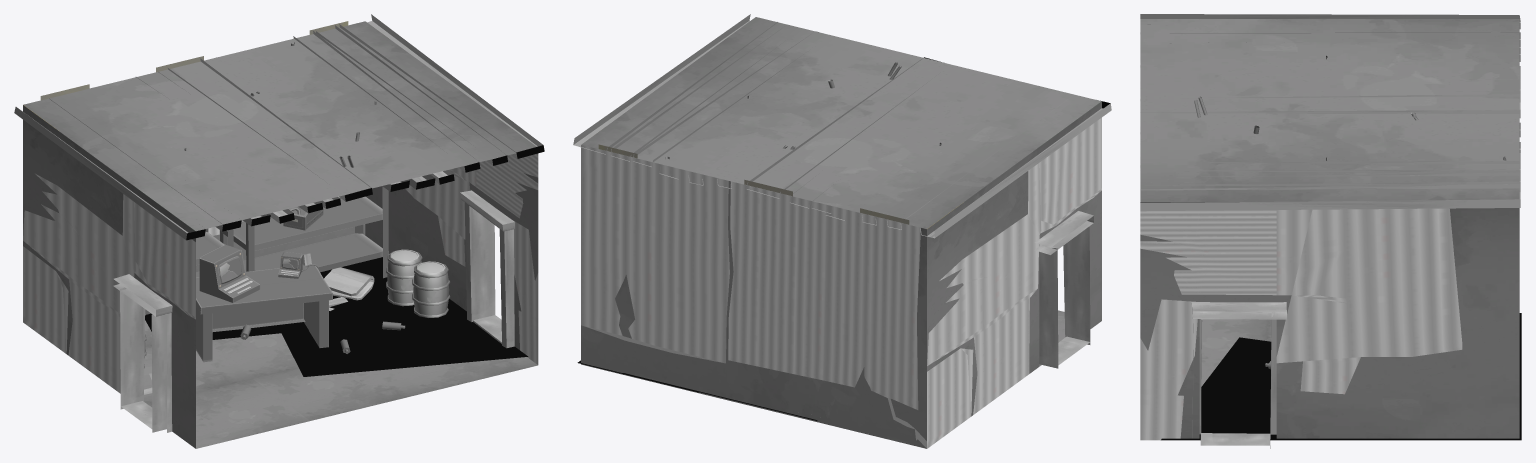
File: MSH_QuestFilly_L1_R1_optimized.fbx
3 renders of one model, left to right at view 1: azimuth 30°, elevation 25°; view 2: azimuth 150°, elevation 25°; view 3: azimuth 270°, elevation 25°, orthographic. The views are drawn at different scales.
Parts seen in each view (by area): view 1: lightmap0, lightmap3, lightmap1, lightmap8, lightmap2; view 2: lightmap3, lightmap0, lightmap1, lightmap2; view 3: lightmap3, lightmap0, lightmap1, lightmap2, lightmap8.
Part boxes in pixels (x1=…): lightmap0: x1=23, y1=21, x2=544, y2=386; lightmap3: x1=23, y1=105, x2=538, y2=448; lightmap1: x1=14, y1=14, x2=542, y2=396; lightmap8: x1=144, y1=320, x2=537, y2=448; lightmap2: x1=113, y1=190, x2=514, y2=432; lightmap3: x1=581, y1=101, x2=1101, y2=448; lightmap0: x1=581, y1=17, x2=1110, y2=228; lightmap1: x1=573, y1=14, x2=1111, y2=420; lightmap2: x1=1034, y1=211, x2=1093, y2=368; lightmap3: x1=1140, y1=202, x2=1519, y2=440; lightmap0: x1=1140, y1=19, x2=1519, y2=369; lightmap1: x1=1140, y1=14, x2=1521, y2=440; lightmap2: x1=1191, y1=302, x2=1286, y2=448; lightmap8: x1=1201, y1=319, x2=1271, y2=386.
Bounding box in the file's own units: 10.6 × 6.34 × 8.52.
5 materials, 3 textured.
